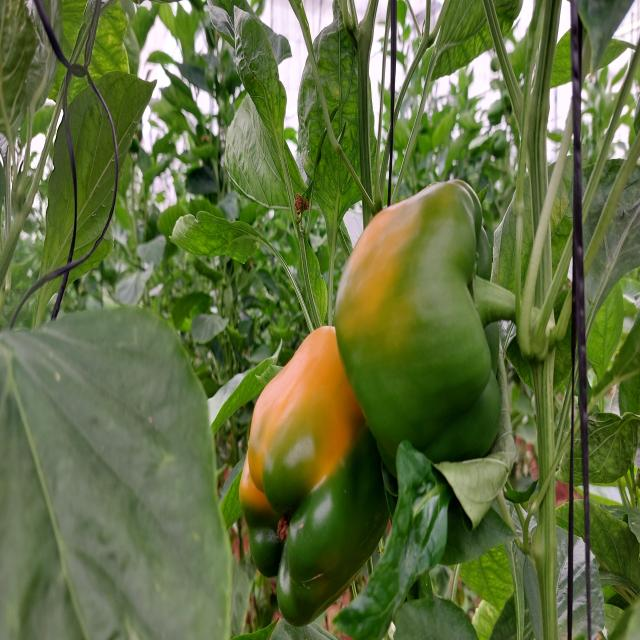GreenishYellow--Can-be-Harvested: (334, 179, 528, 492), (216, 317, 392, 558)
